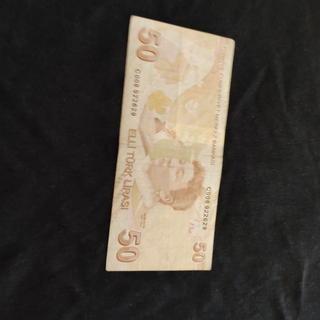50TLBack: (105, 13, 235, 272)
